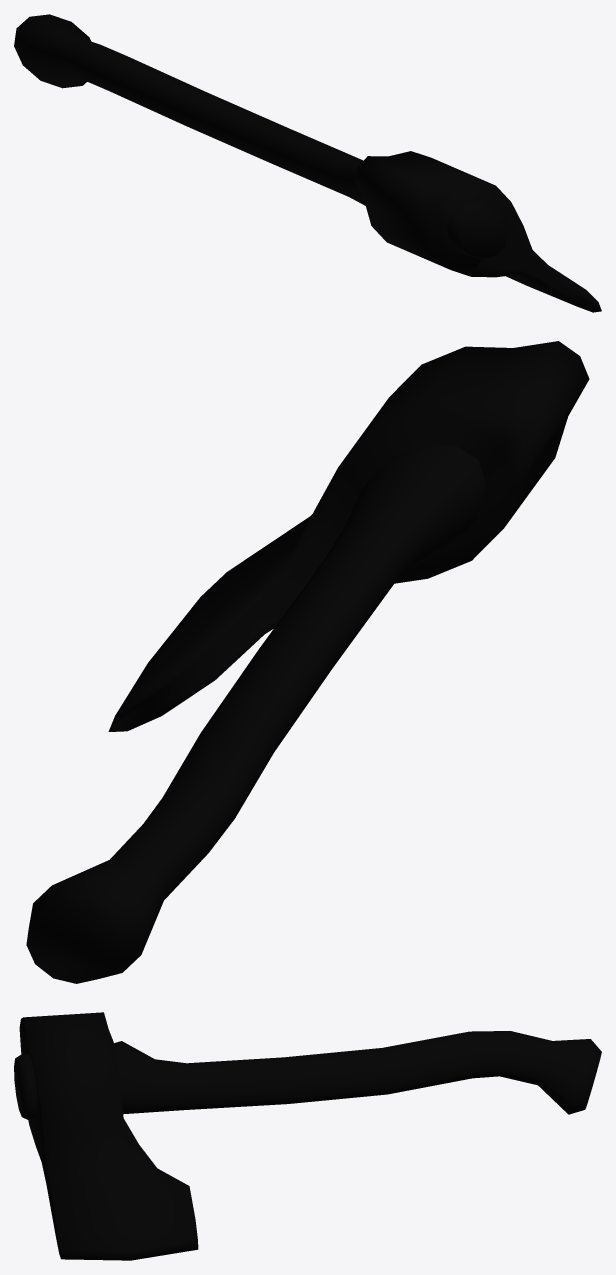
The model's file is Cube-Lv2-R-Weapon.fbx.
The picture shows the model from 3 angles, top to bottom: view 1: azimuth 30°, elevation 25°; view 2: azimuth 150°, elevation 25°; view 3: azimuth 270°, elevation 25°; orthographic projection. The views are drawn at different scales.
Visible parts, largest first — view 1: Cube-Lv2-R-Weapon; view 2: Cube-Lv2-R-Weapon; view 3: Cube-Lv2-R-Weapon.
Boxes of the visible parts, x1=… form: Cube-Lv2-R-Weapon: x1=14, y1=14, x2=601, y2=312; Cube-Lv2-R-Weapon: x1=26, y1=341, x2=589, y2=983; Cube-Lv2-R-Weapon: x1=14, y1=1012, x2=601, y2=1260.
Bounding box in the file's own units: 0.2409 × 0.1618 × 0.5142.
